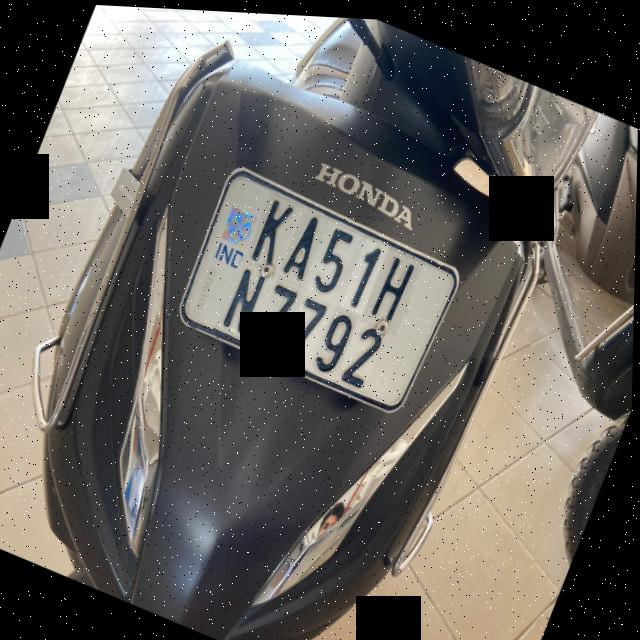1: (341, 233, 390, 312)
5: (307, 216, 364, 302)
7: (279, 287, 334, 365), (254, 273, 308, 352)
9: (313, 300, 362, 375)
A: (277, 205, 331, 286)
H: (361, 239, 427, 334)
K: (243, 188, 302, 274)
N: (212, 253, 277, 346)
